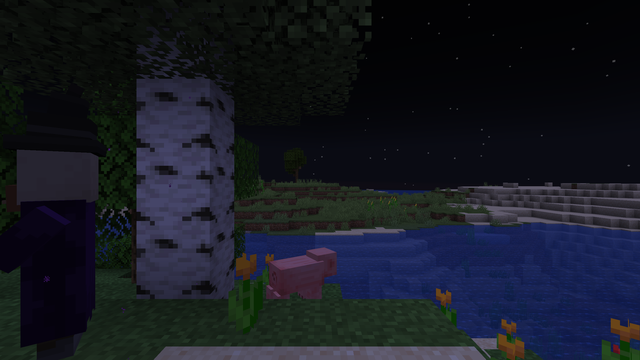cochons: (271, 254, 317, 297)
sorcieres: (10, 141, 117, 356)
